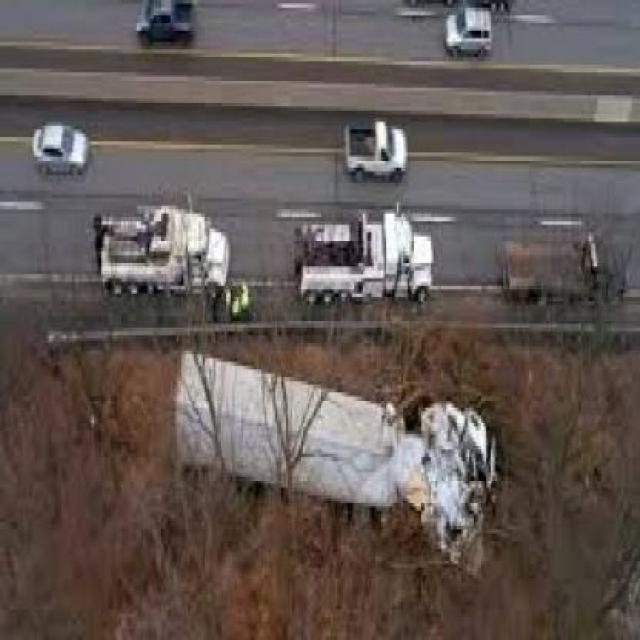accident: (280, 360, 532, 625)
